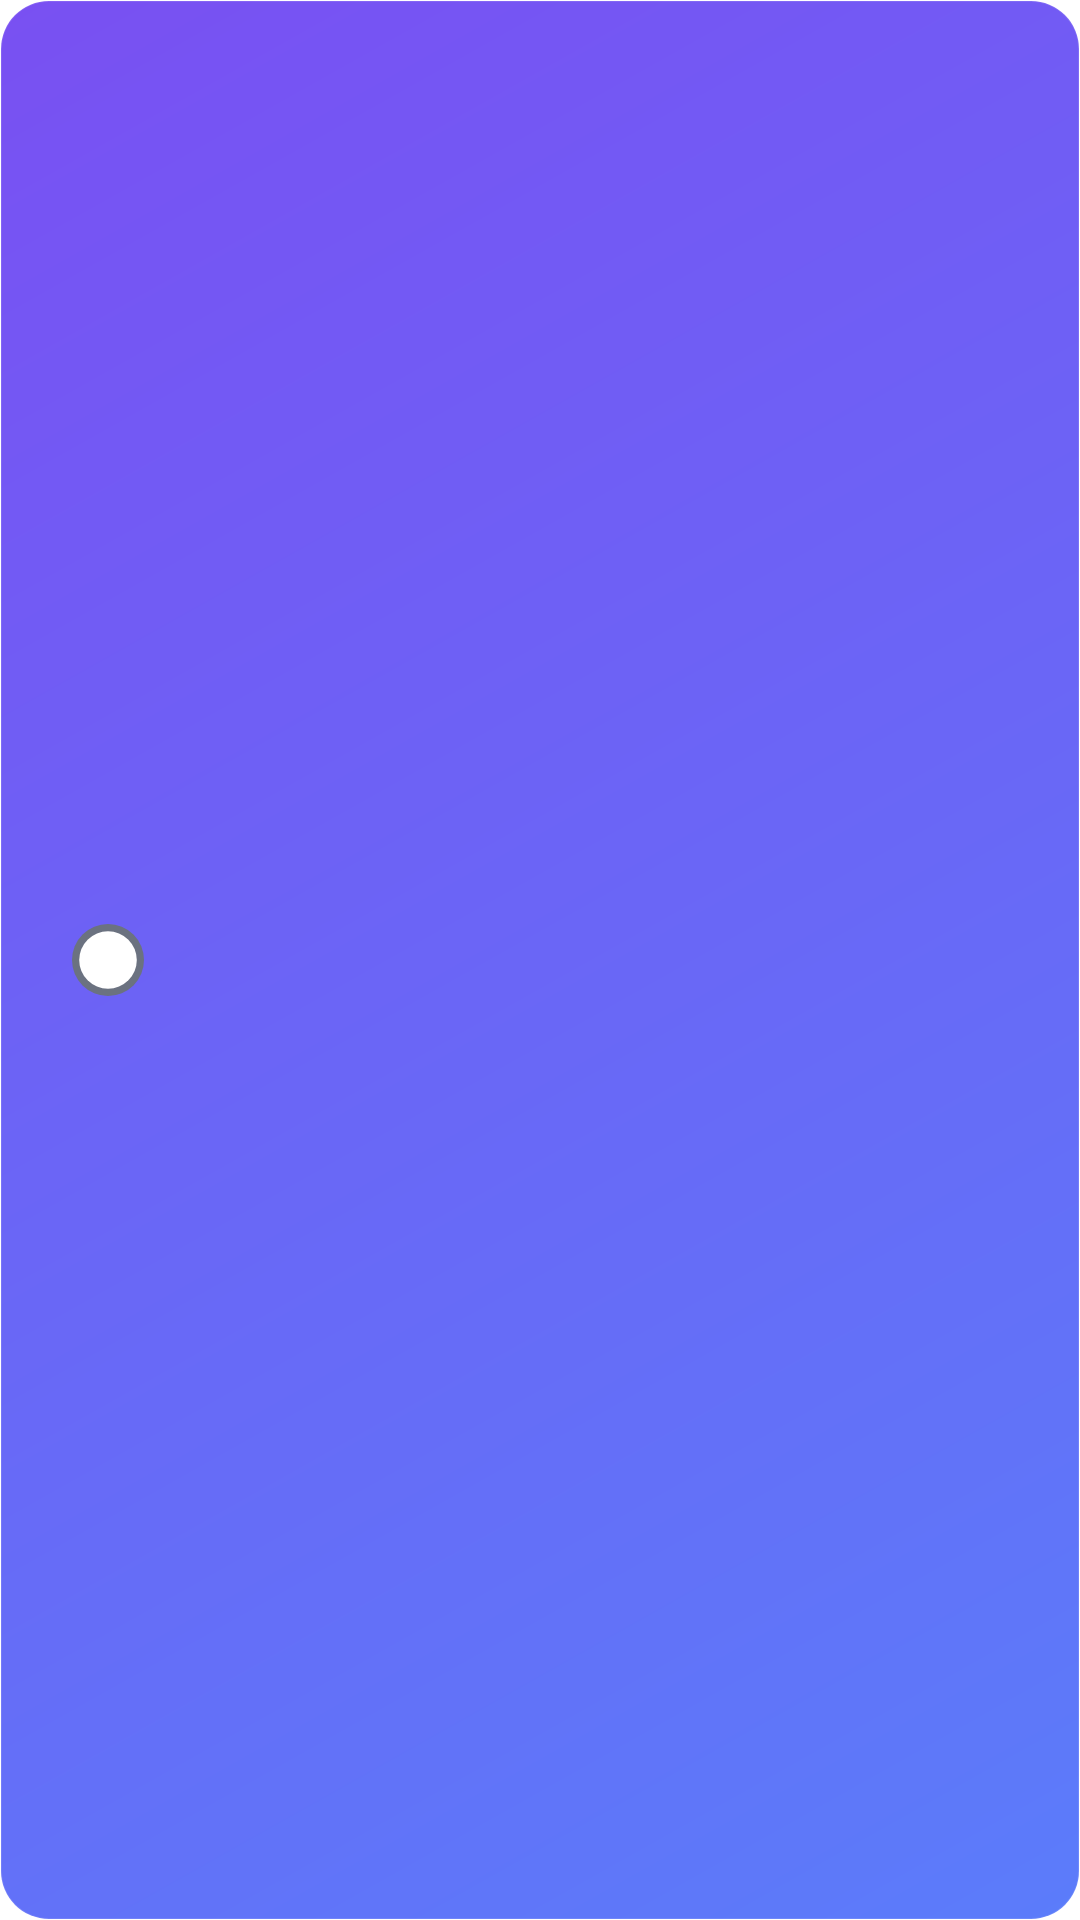

Named icons in this screenshot (1080w x 1920h) and their bounding boxes, BBox(x1, y1, x2, y2):
widget checkbox circle: BBox(72, 924, 144, 996)
